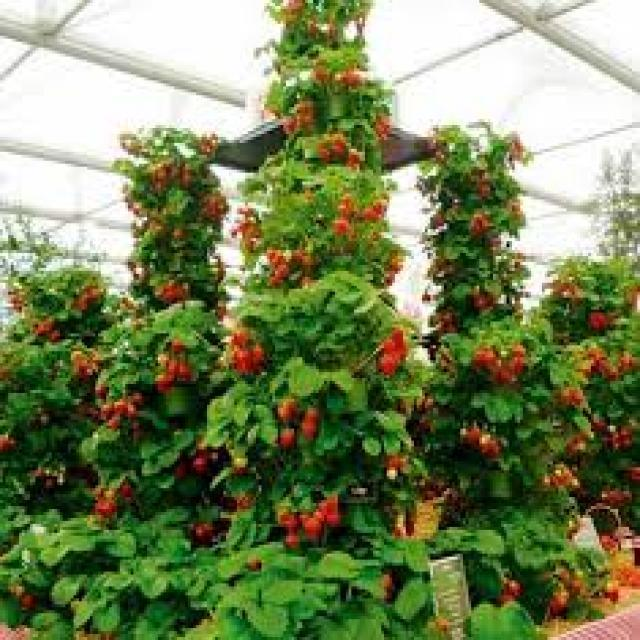Fruta sana: (475, 346, 518, 386), (464, 421, 502, 459), (288, 89, 314, 136), (546, 578, 574, 619), (265, 248, 289, 284), (34, 317, 65, 344), (154, 162, 186, 188), (506, 575, 528, 607), (332, 198, 352, 232), (156, 281, 178, 302), (376, 354, 398, 374), (307, 516, 322, 542), (190, 522, 214, 538), (96, 496, 115, 514), (280, 424, 294, 448), (205, 199, 221, 219), (281, 400, 296, 421), (236, 350, 251, 370), (303, 422, 318, 442), (78, 355, 90, 379), (286, 534, 301, 550), (192, 456, 208, 471), (282, 515, 296, 530), (306, 407, 322, 420), (233, 334, 246, 346), (114, 402, 126, 414), (2, 435, 12, 449), (102, 406, 112, 417), (108, 418, 118, 428), (126, 402, 134, 414)
